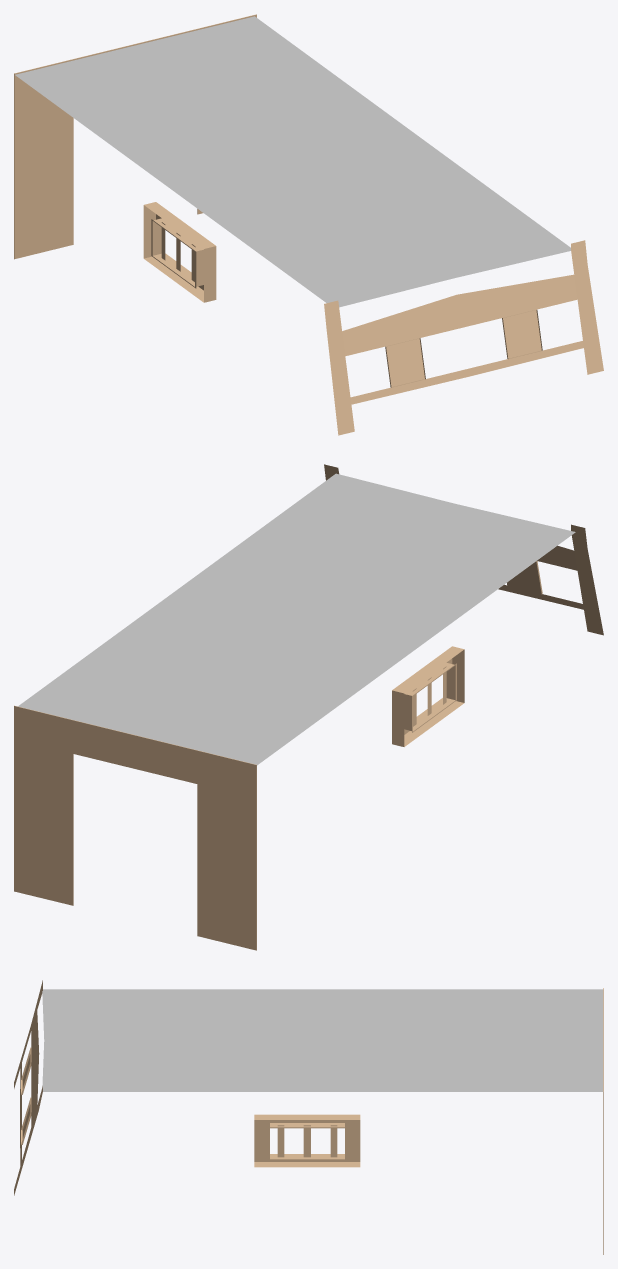
Rendered from FuckDaFog.fbx.
The picture shows the model from 3 angles, top to bottom: view 1: azimuth 30°, elevation 25°; view 2: azimuth 150°, elevation 25°; view 3: azimuth 270°, elevation 25°; orthographic projection. The views are drawn at different scales.
Parts seen in each view (by area): view 1: InteriorBox.001, FuckDaFog; view 2: InteriorBox.001, FuckDaFog; view 3: InteriorBox.001, FuckDaFog.
Boxes of the visible parts, box(x1,y1,x2,y2) form: InteriorBox.001: box(15, 16, 570, 307); FuckDaFog: box(14, 14, 603, 435); InteriorBox.001: box(18, 473, 575, 765); FuckDaFog: box(14, 464, 603, 950); InteriorBox.001: box(42, 989, 603, 1091); FuckDaFog: box(14, 980, 603, 1254).
Size of the model in its own units: 443 by 305 by 970.
